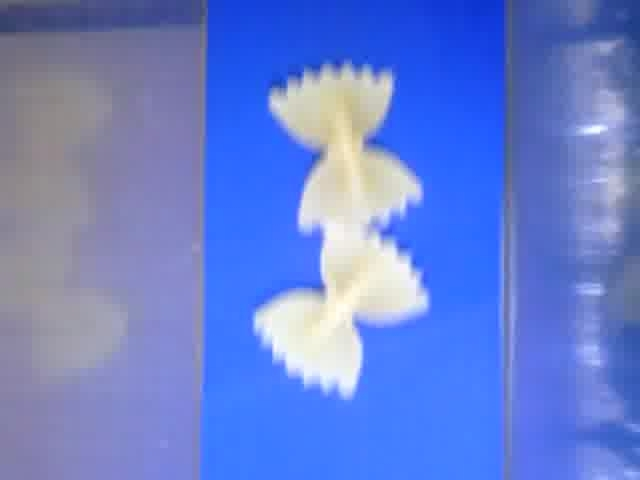farfalle: (253, 230, 432, 395), (268, 61, 424, 231)
